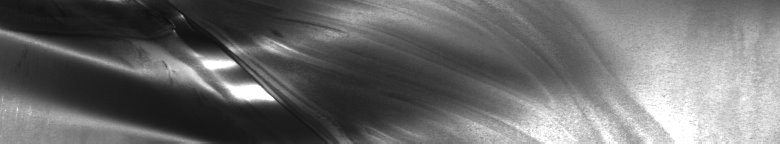ke: (4, 9, 388, 136)
